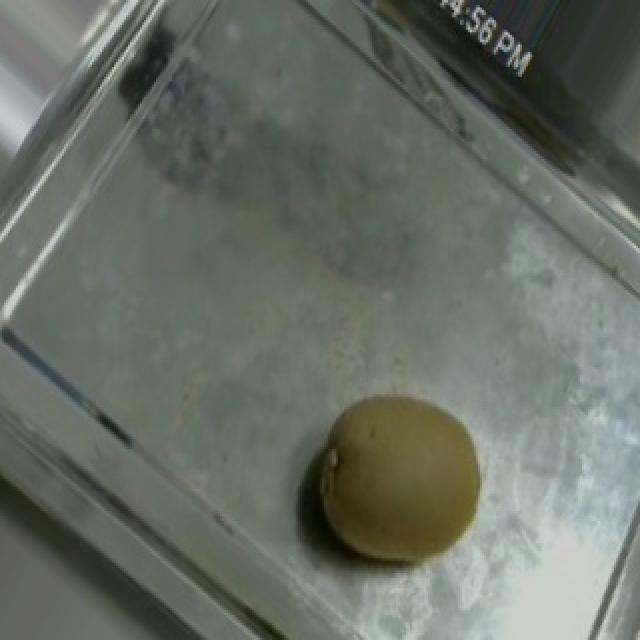Fruit: (278, 362, 522, 598)
